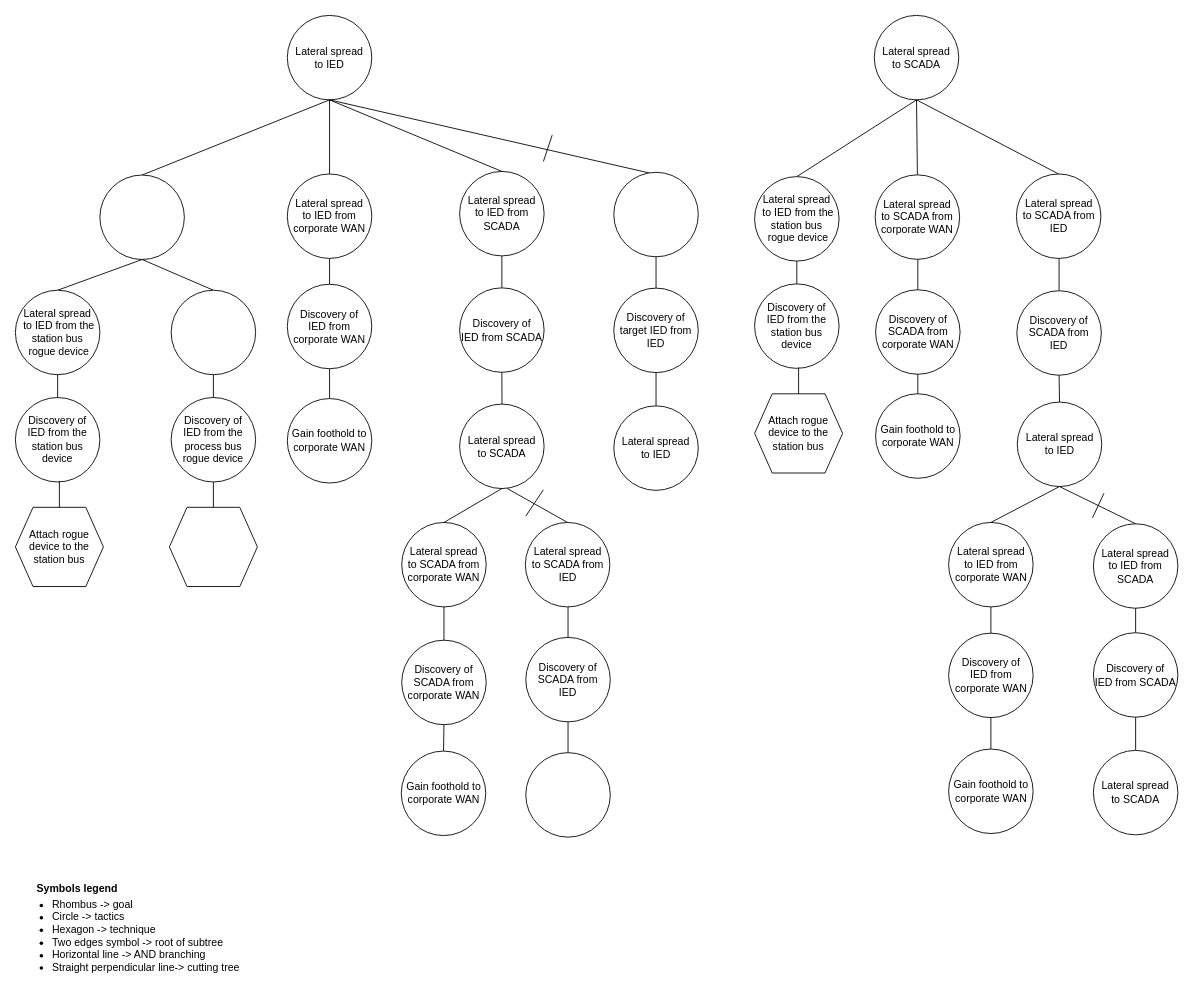
The diagram is 1193 pixels wide and 998 high, and some of its shapes have lost their labels. Each missing label, with the centre of its shape:
Attach rogue device to the process bus: point 213,546
Lateral spread to IED from rogue device: point 141,217
Lateral spread to IED from the process bus rogue device: point 213,332
Lateral spread to target IED from IED: point 655,214
Latereal spread to IED: point 567,794
